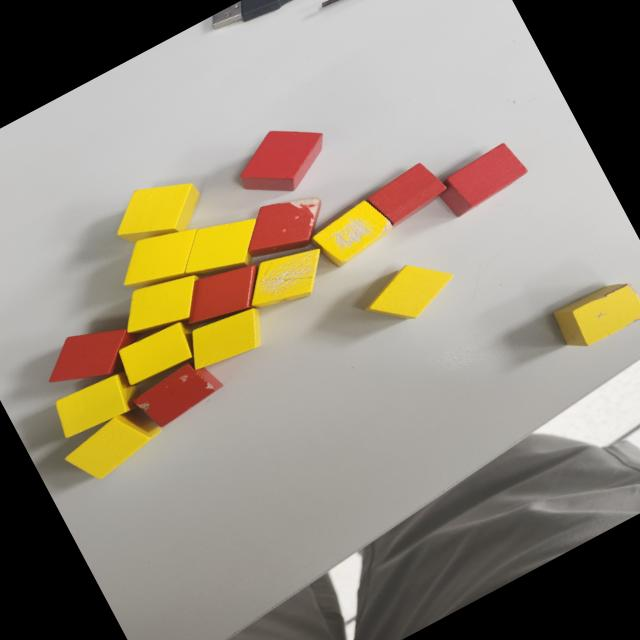broken: (232, 179, 338, 273), (235, 234, 338, 321), (128, 351, 230, 433), (549, 272, 640, 354), (306, 193, 397, 271)
red: (224, 108, 340, 210), (35, 309, 145, 402), (171, 251, 272, 336), (431, 138, 531, 220), (362, 156, 451, 231)
yellow: (348, 246, 464, 340), (56, 398, 170, 490), (102, 163, 212, 258), (108, 212, 215, 304), (168, 201, 274, 292), (111, 260, 213, 346), (47, 364, 145, 444), (178, 298, 274, 378), (112, 316, 200, 388)
